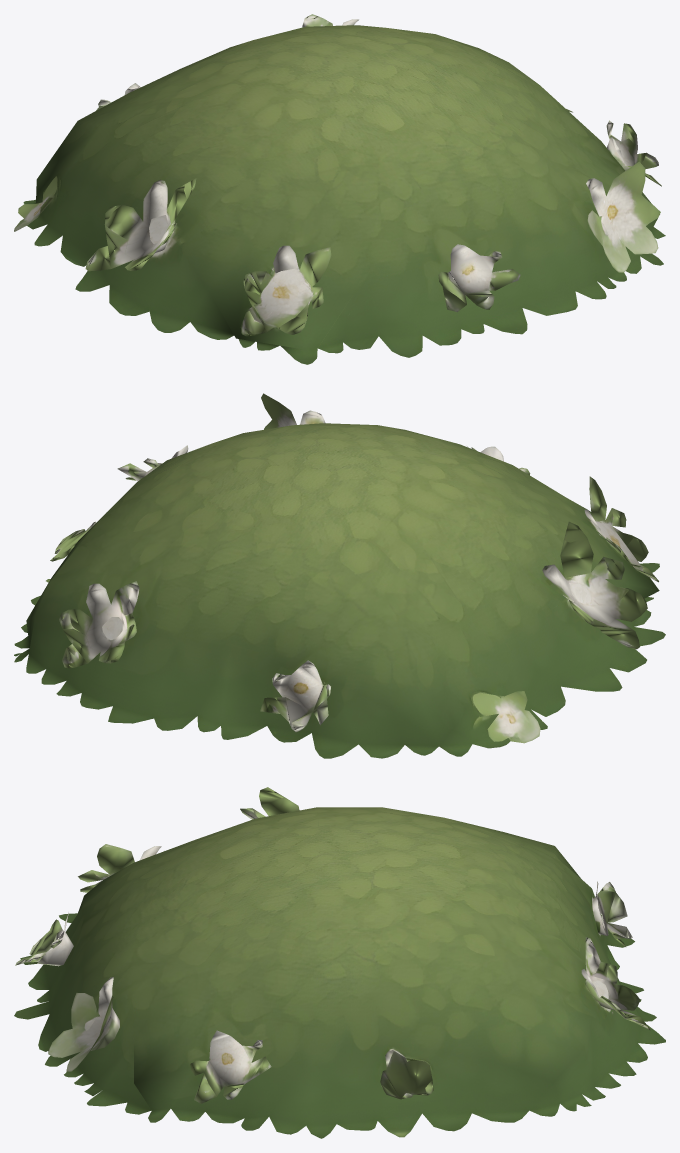
File: map_flowerbush_tripo.glb
3 views of the same model, one above another, from view 1: azimuth 30°, elevation 25°; view 2: azimuth 150°, elevation 25°; view 3: azimuth 270°, elevation 25° (orthographic). The views are drawn at different scales.
Parts seen in each view (by area): view 1: tripo_node_6c597fa1-72d8-489c-8c2d-d8211d1e6fb0; view 2: tripo_node_6c597fa1-72d8-489c-8c2d-d8211d1e6fb0; view 3: tripo_node_6c597fa1-72d8-489c-8c2d-d8211d1e6fb0.
Part boxes in pixels (x1=…): tripo_node_6c597fa1-72d8-489c-8c2d-d8211d1e6fb0: x1=14, y1=14, x2=665, y2=364; tripo_node_6c597fa1-72d8-489c-8c2d-d8211d1e6fb0: x1=14, y1=393, x2=665, y2=758; tripo_node_6c597fa1-72d8-489c-8c2d-d8211d1e6fb0: x1=14, y1=787, x2=665, y2=1138.
Size of the model in its own units: 0.9902 by 0.2832 by 0.998.
1 material, 1 textured.
